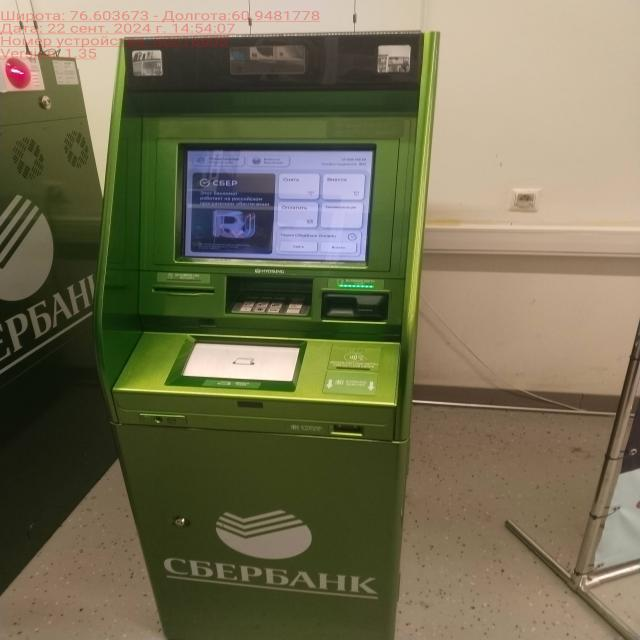bank: (104, 28, 444, 640), (0, 55, 113, 593)
